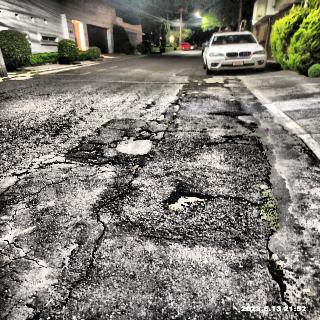alligator-crack: (0, 105, 107, 211), (0, 216, 43, 284), (130, 93, 182, 126)
crack: (261, 142, 310, 320), (51, 213, 111, 320), (107, 162, 143, 209), (207, 136, 250, 148), (158, 129, 218, 134)
pothole: (108, 129, 158, 158), (164, 190, 211, 210)
